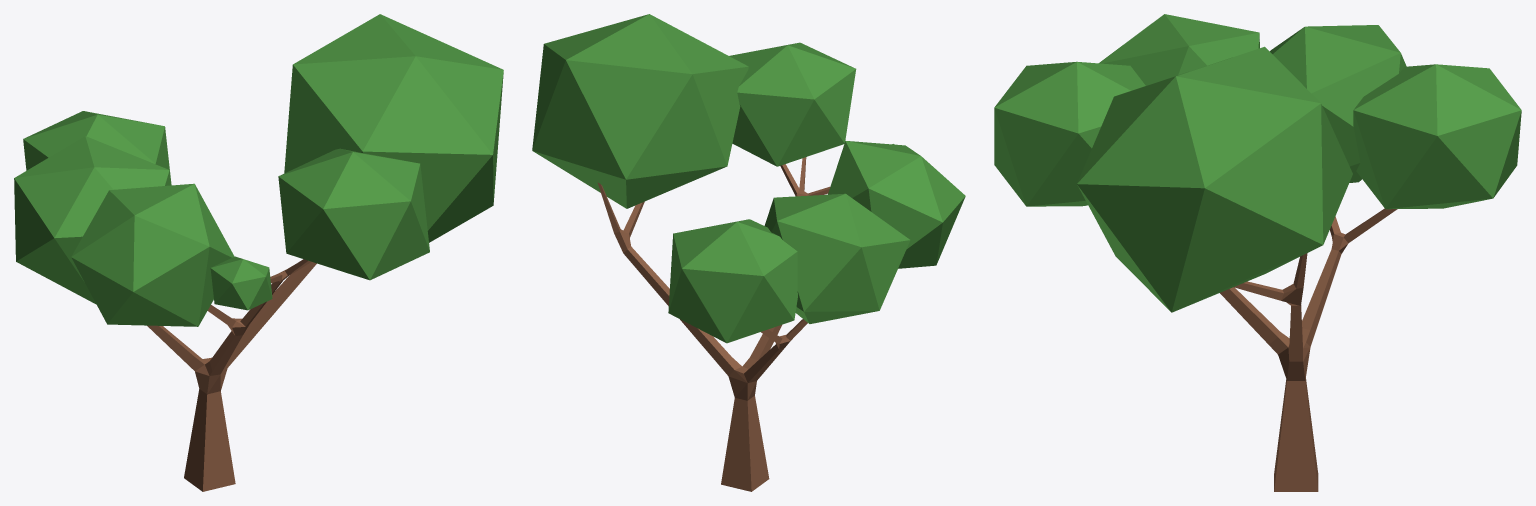
The model's file is tree2.glb.
The picture shows the model from 3 angles, left to right: view 1: azimuth 30°, elevation 25°; view 2: azimuth 150°, elevation 25°; view 3: azimuth 270°, elevation 25°; orthographic projection. The views are drawn at different scales.
Visible parts, largest first — view 1: Icosphere.001, Cube; view 2: Icosphere.001, Cube; view 3: Icosphere.001, Cube.
Boxes of the visible parts, box(x1,y1,x2,y2) form: Icosphere.001: box(14, 14, 503, 326); Cube: box(147, 259, 316, 491); Icosphere.001: box(532, 14, 965, 343); Cube: box(597, 157, 830, 491); Icosphere.001: box(994, 14, 1521, 312); Cube: box(1220, 208, 1397, 491).
Bounding box in the file's own units: 20.25 × 19.14 × 18.53.
